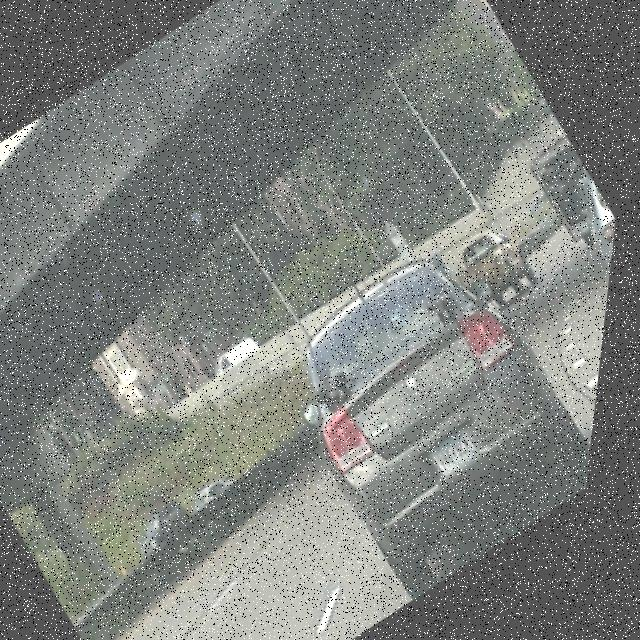license_plate: (422, 417, 497, 484)
